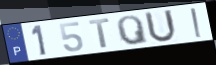1: (29, 23, 48, 57)
5: (58, 21, 85, 53)
I: (189, 6, 204, 39)
Q: (115, 15, 150, 47)
T: (88, 17, 112, 50)
U: (143, 8, 179, 44)
